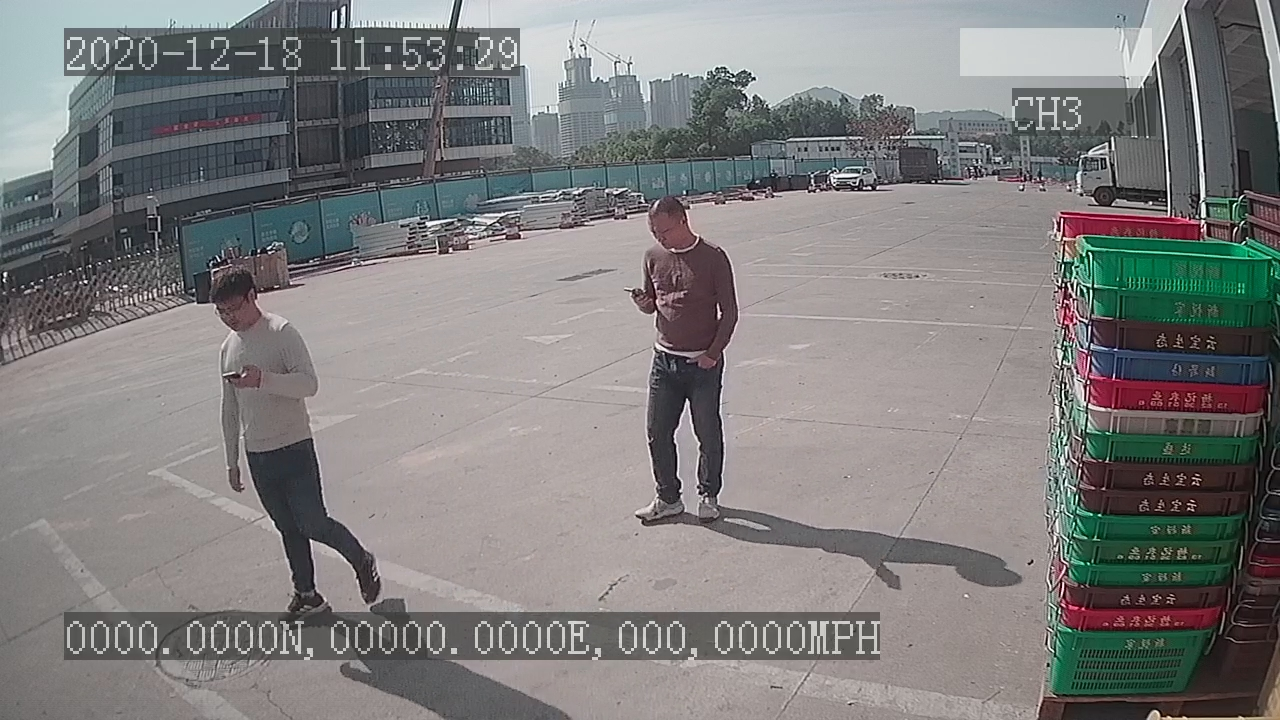person: (615, 190, 745, 527)
